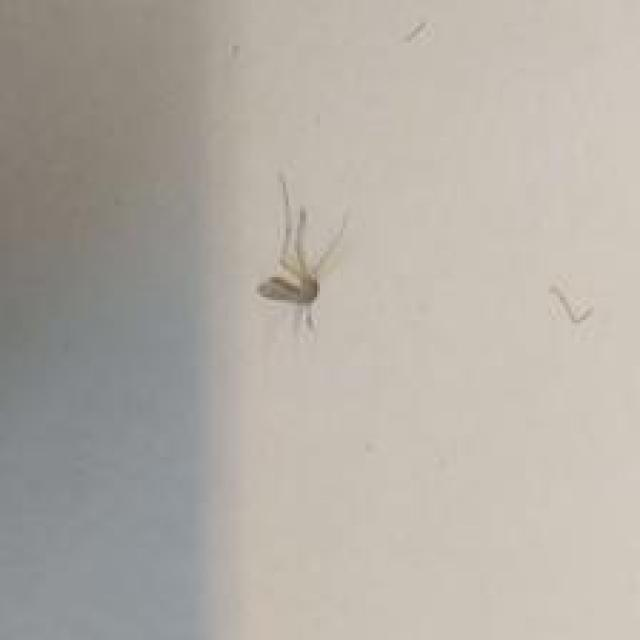Culex: (256, 172, 350, 337)
